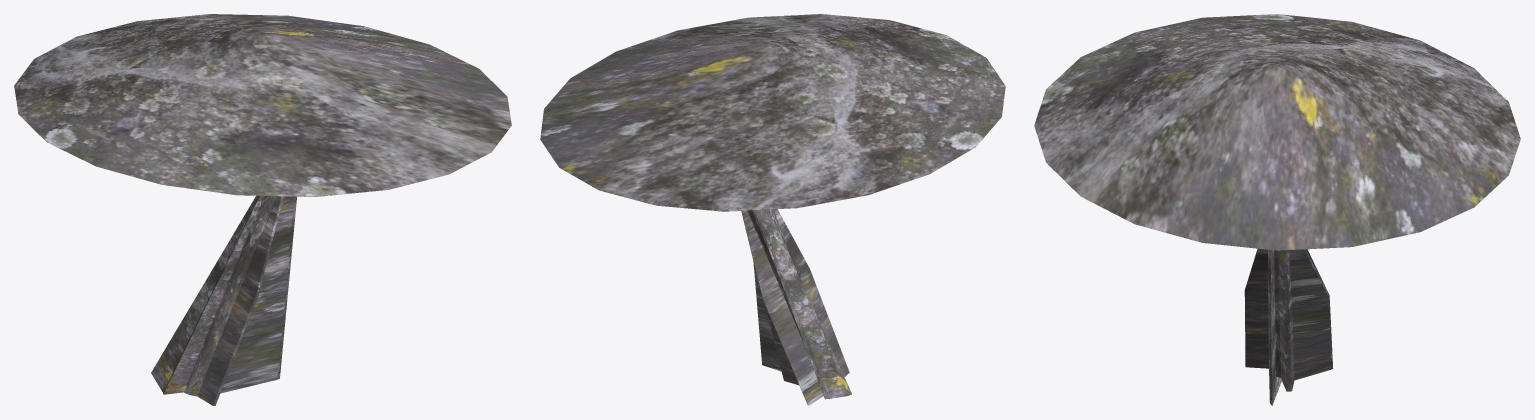
Rendered from mushroom_cursed.fbx.
3 views of the same model, side by side, from view 1: azimuth 30°, elevation 25°; view 2: azimuth 150°, elevation 25°; view 3: azimuth 270°, elevation 25° (orthographic). The views are drawn at different scales.
Visible parts, largest first — view 1: pasted__mushroom_2; view 2: pasted__mushroom_2; view 3: pasted__mushroom_2.
Boxes of the visible parts, left/top/right/bottom form: pasted__mushroom_2: left=14, top=14, right=511, bottom=405; pasted__mushroom_2: left=540, top=14, right=1005, bottom=405; pasted__mushroom_2: left=1034, top=14, right=1520, bottom=405.
Bounding box in the file's own units: 11.27 × 8.6 × 11.3.
